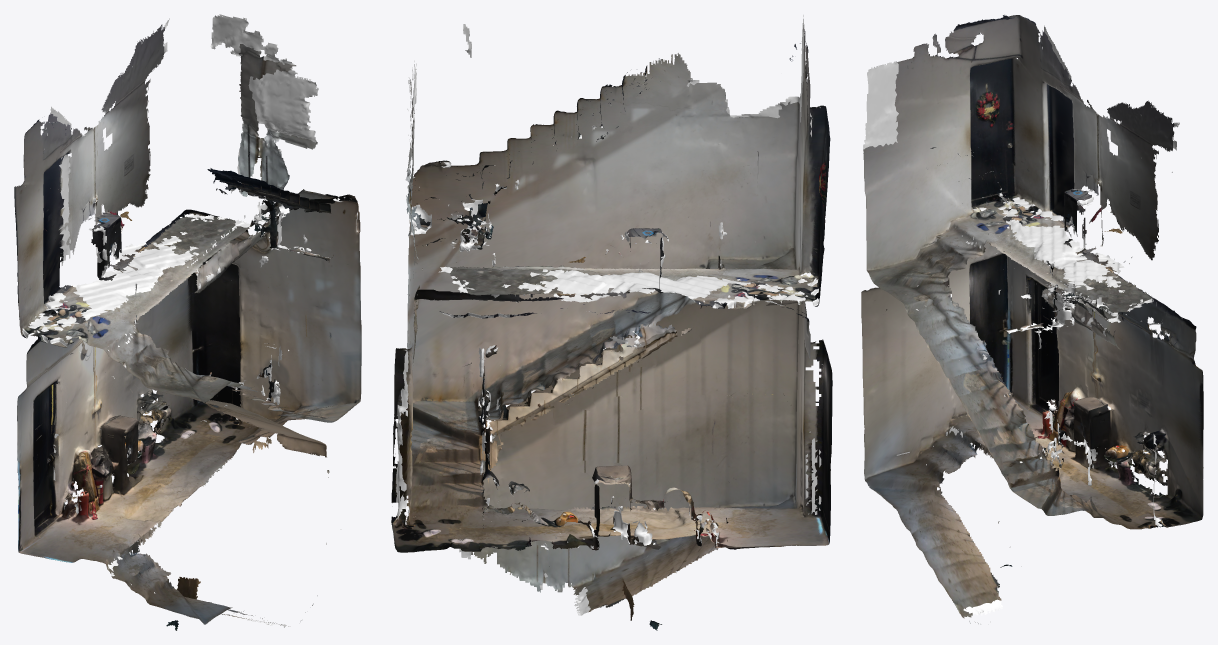
3 renders of one model, left to right at view 1: azimuth 30°, elevation 25°; view 2: azimuth 150°, elevation 25°; view 3: azimuth 270°, elevation 25°, orthographic. The views are drawn at different scales.
Parts seen in each view (by area): view 1: texture_3, texture_5, texture_1, texture_4, object 1, texture_9, texture_0, texture_6, texture_8, texture_2; view 2: texture_2, texture_5, texture_1, texture_6, texture_0, texture_9, object 1, texture_3, texture_4, texture_8; view 3: texture_1, texture_0, texture_2, texture_9, texture_4, texture_3, object 1, texture_5, texture_6, texture_8.
Boxes of the visible parts, box(x1,y1,x2,y2) form: texture_3: box(58, 24, 361, 419); texture_5: box(125, 123, 360, 521); texture_1: box(14, 113, 333, 402); texture_4: box(51, 194, 361, 497); object 1: box(14, 14, 357, 627); texture_9: box(96, 211, 361, 486); texture_0: box(17, 301, 206, 595); texture_6: box(28, 127, 329, 626); texture_8: box(47, 377, 197, 630); texture_2: box(106, 183, 360, 624); texture_2: box(411, 82, 800, 596); texture_5: box(391, 53, 780, 612); texture_1: box(415, 28, 830, 365); texture_6: box(424, 251, 789, 620); texture_0: box(521, 300, 832, 594); texture_9: box(391, 257, 631, 552); object 1: box(392, 15, 824, 615); texture_3: box(393, 78, 668, 527); texture_4: box(393, 166, 693, 551); texture_8: box(492, 465, 737, 630); texture_1: box(863, 15, 1109, 450); texture_0: box(861, 243, 1174, 495); texture_2: box(863, 180, 1114, 602); texture_9: box(1008, 322, 1203, 528); texture_4: box(1001, 273, 1203, 526); texture_3: box(982, 100, 1195, 525); object 1: box(863, 14, 1182, 615); texture_5: box(919, 147, 1203, 600); texture_6: box(952, 78, 1134, 624); texture_8: box(963, 359, 1171, 567).
Size of the model in its own units: 5.68 by 8.18 by 4.99.
10 materials, 9 textured.
